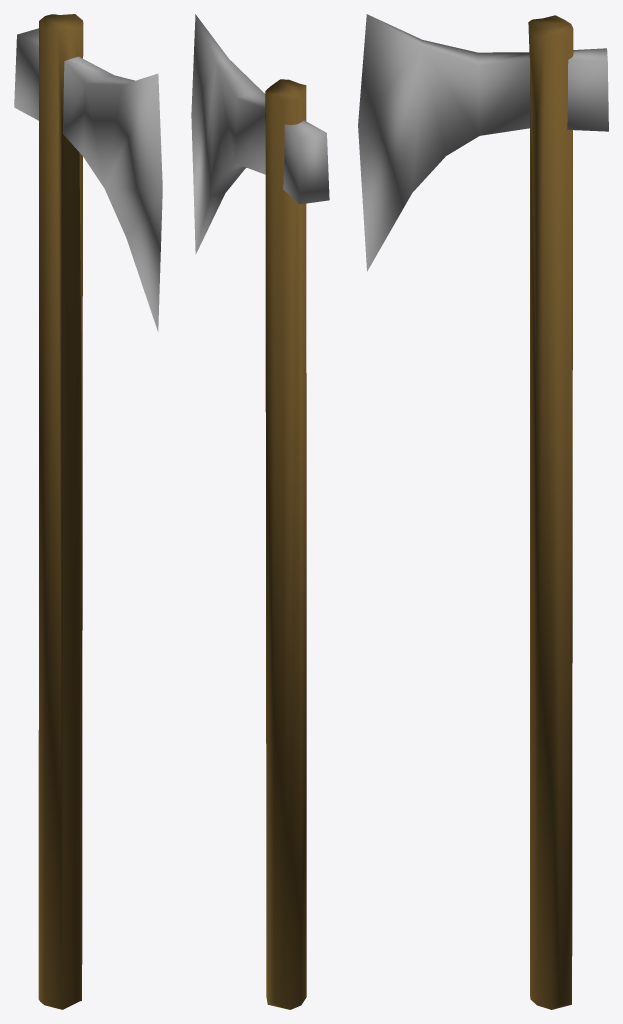
The model's file is axe.fbx.
3 renders of one model, left to right at view 1: azimuth 30°, elevation 25°; view 2: azimuth 210°, elevation 25°; view 3: azimuth 270°, elevation 25°, orthographic. The views are drawn at different scales.
Parts seen in each view (by area): view 1: axe; view 2: axe; view 3: axe.
Boxes of the visible parts, bbox=[...] form: axe: bbox=[14, 14, 162, 1009]; axe: bbox=[191, 14, 329, 1009]; axe: bbox=[358, 14, 608, 1009].
Size of the model in its own units: 9.1 by 215 by 49.5.
